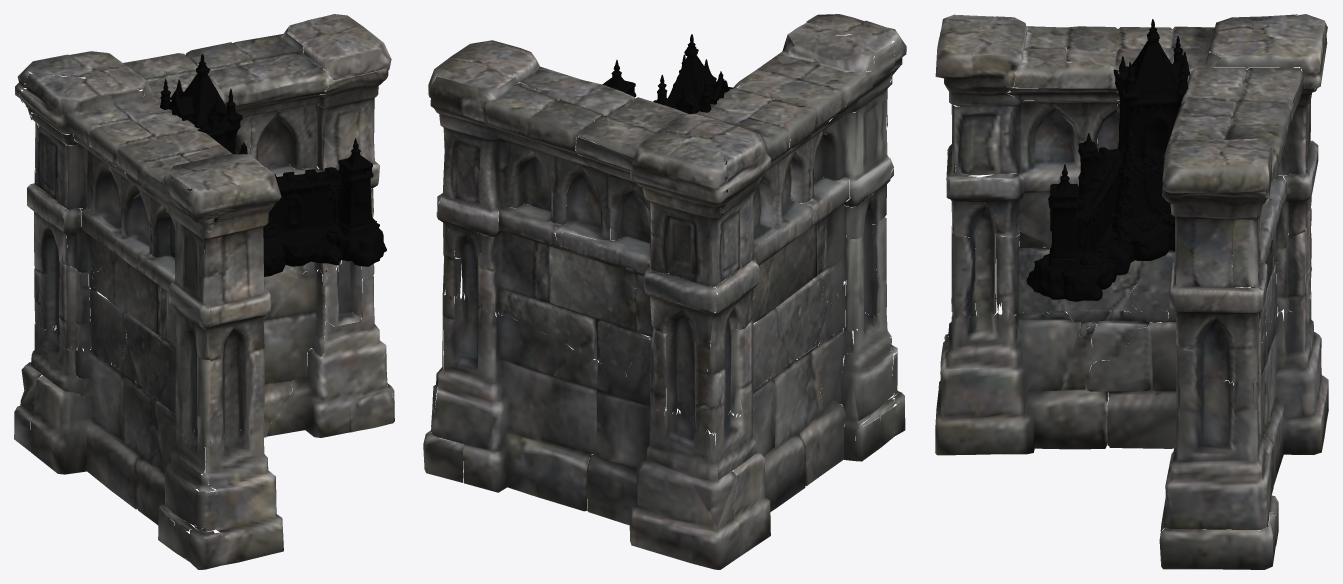
File: Valoria_DefenseTower_FPDv1.glb
The picture shows the model from 3 angles, left to right: view 1: azimuth 30°, elevation 25°; view 2: azimuth 150°, elevation 25°; view 3: azimuth 270°, elevation 25°; orthographic projection. The views are drawn at different scales.
Parts seen in each view (by area): view 1: Tower masonry · 00, Tower crown source · 00; view 2: Tower masonry · 00, Tower crown source · 00; view 3: Tower masonry · 00, Tower crown source · 00.
Part boxes in pixels (x1,y1,x2,y2): Tower masonry · 00: (14,14,394,569); Tower crown source · 00: (152,53,386,276); Tower masonry · 00: (423,14,906,569); Tower crown source · 00: (574,34,733,214); Tower masonry · 00: (935,14,1328,569); Tower crown source · 00: (1026,19,1190,301).
Size of the model in its own units: 2.37 by 3.09 by 2.45.
Materials: 3 (3 with a texture image).
